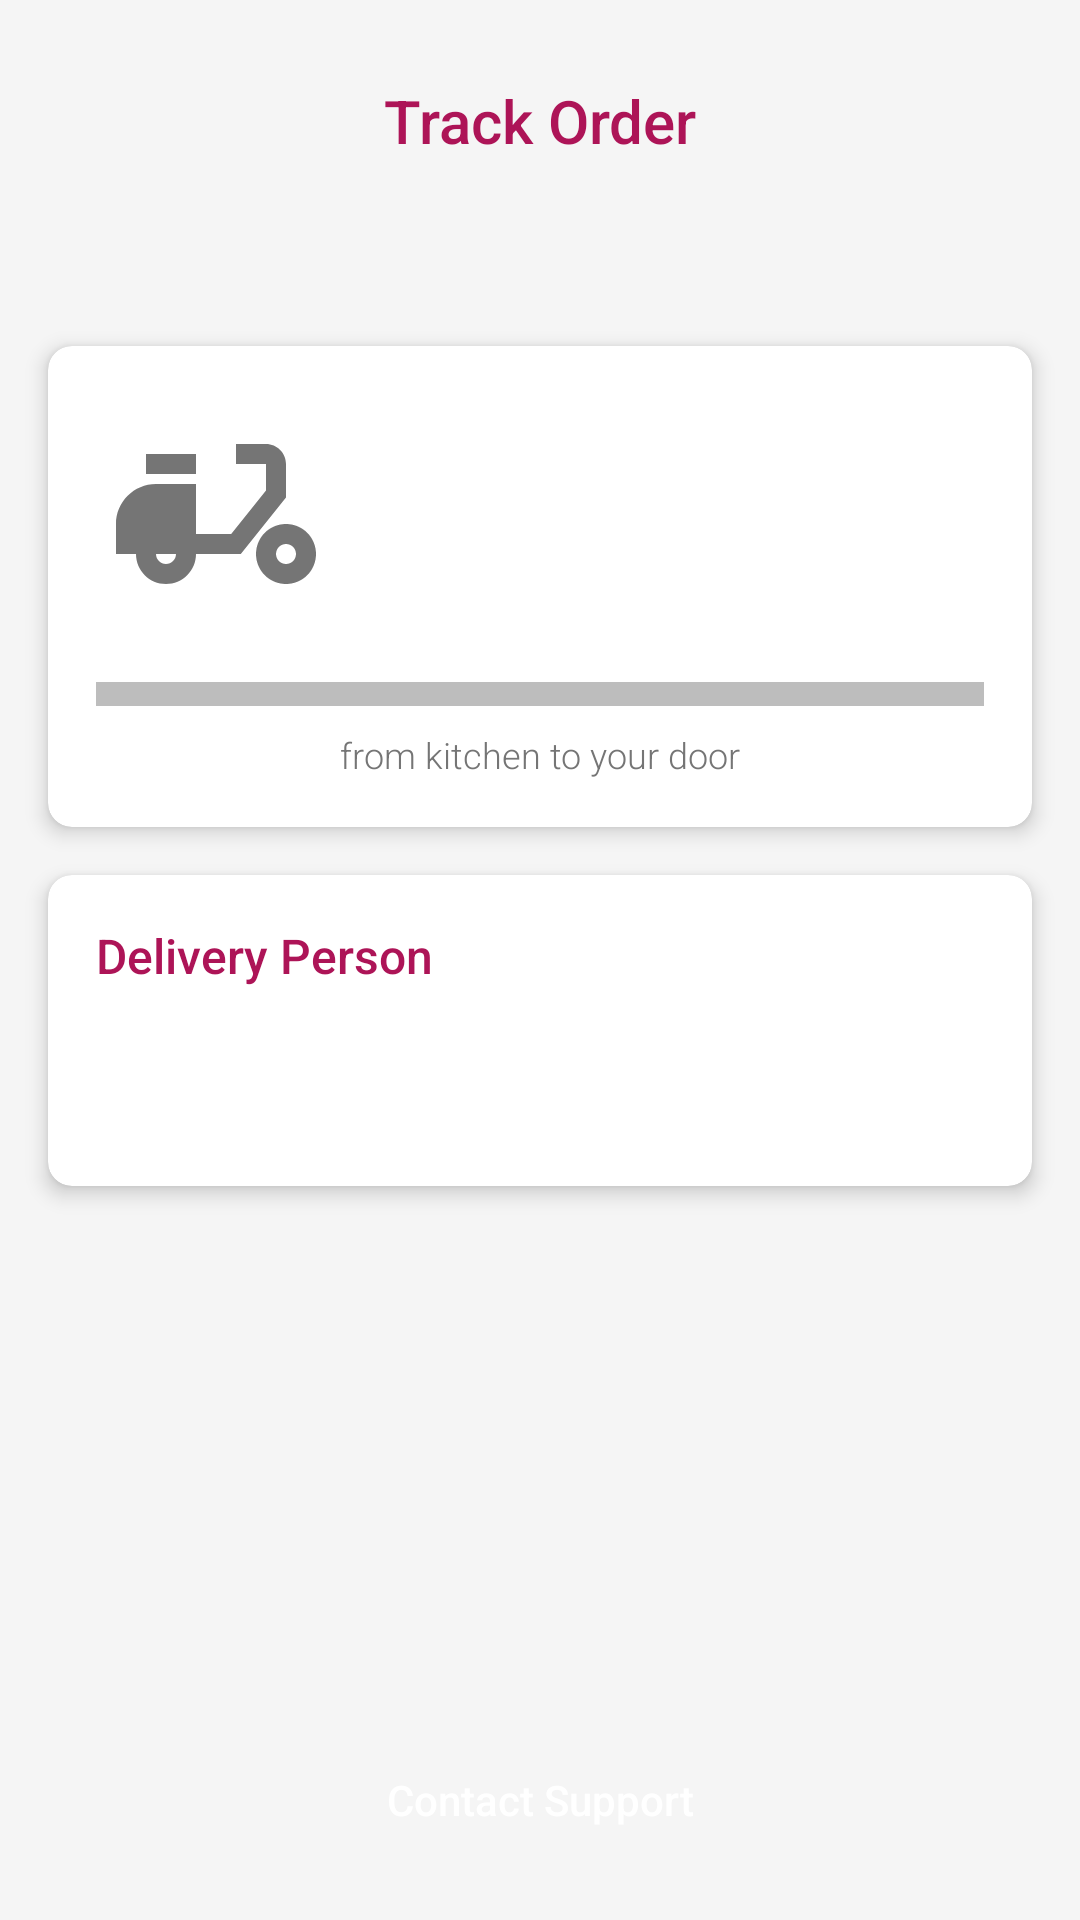

Where icons sit on this 1080 × 1920 app screen, as (x1=x1, y1=y1, x2=x2, y2=y2):
Delivery Status: (x1=116, y1=444, x2=316, y2=584)
